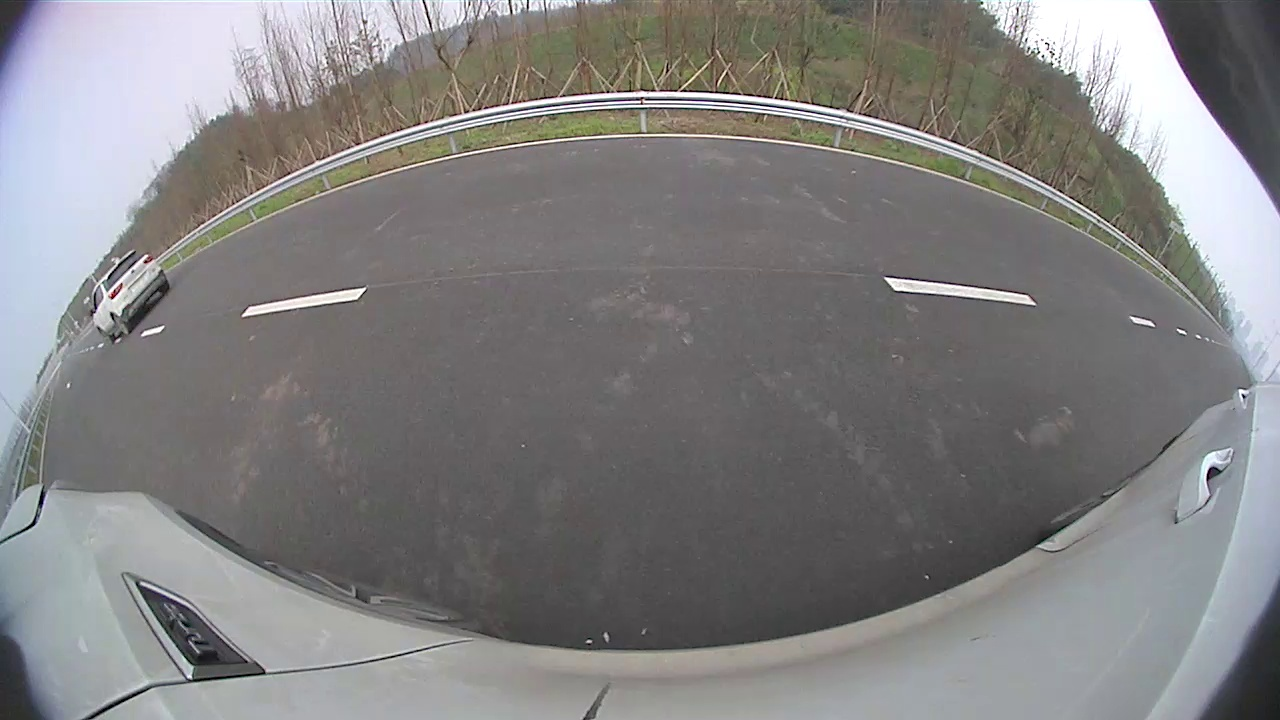car: (89, 249, 170, 345)
rear: (112, 314, 130, 336)
